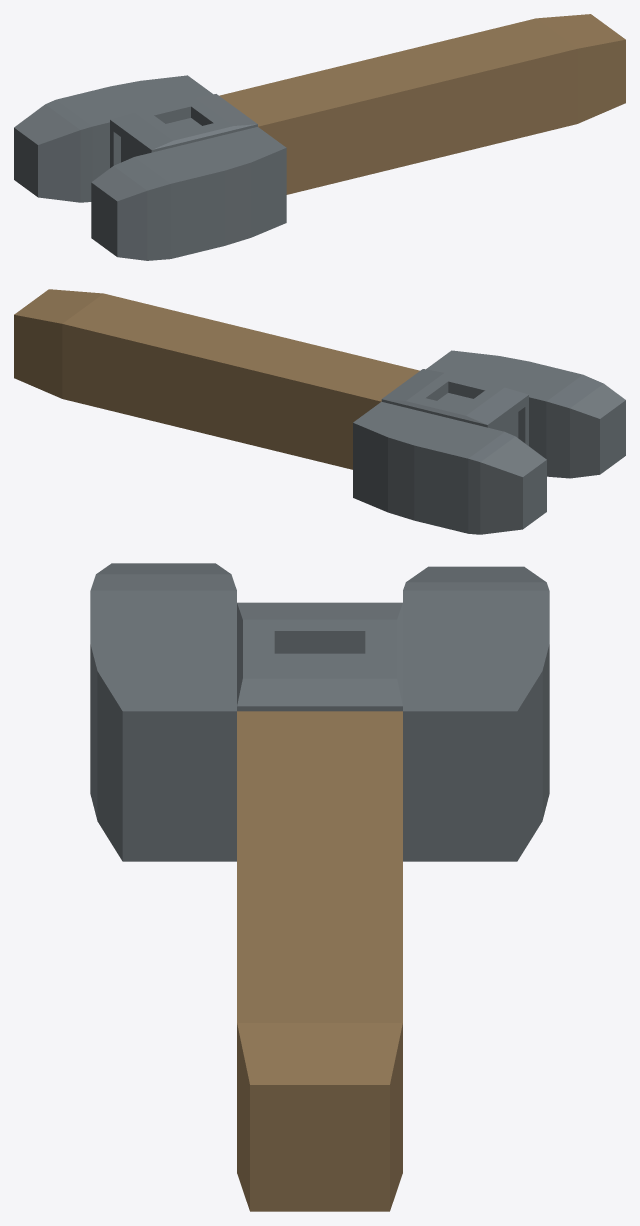
Rendered from ChaveLowPoly.fbx.
3 renders of one model, top to bottom at view 1: azimuth 30°, elevation 25°; view 2: azimuth 150°, elevation 25°; view 3: azimuth 270°, elevation 25°, orthographic. The views are drawn at different scales.
Visible parts, largest first — view 1: Cube; view 2: Cube; view 3: Cube.
Boxes of the visible parts, x1=… form: Cube: x1=14, y1=14, x2=625, y2=260; Cube: x1=14, y1=289, x2=625, y2=534; Cube: x1=90, y1=563, x2=549, y2=1211.
Size of the model in its own units: 386 by 58.18 by 142.
